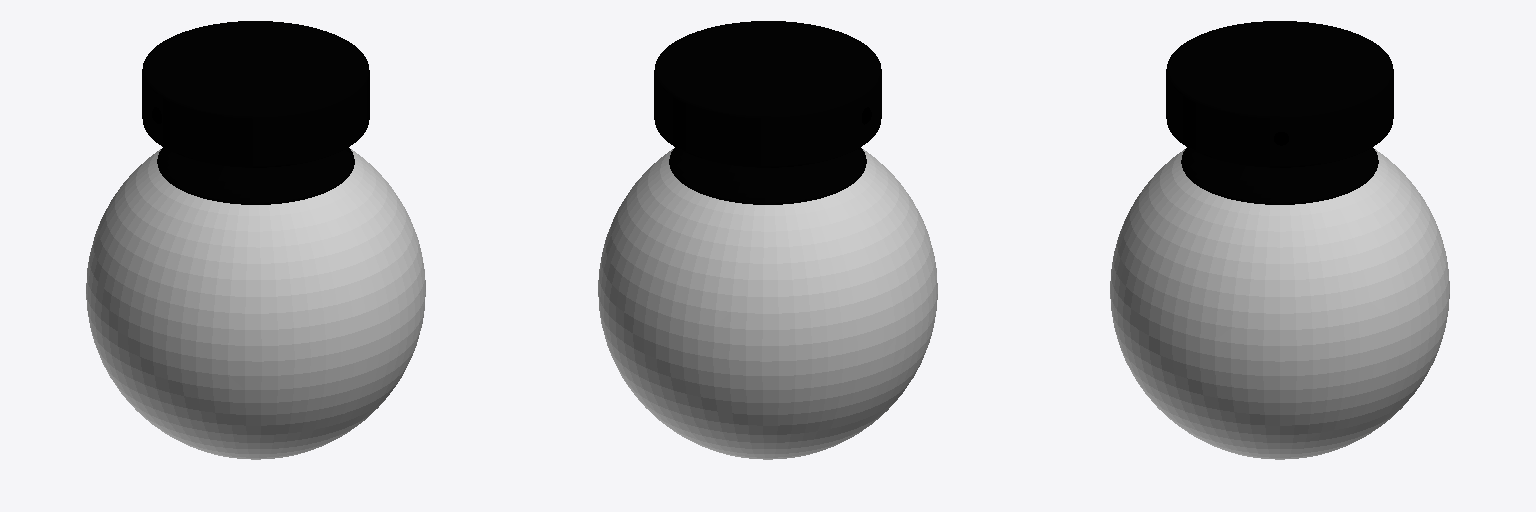
Rendered from Lamp.obj.
3 views of the same model, side by side, from view 1: azimuth 30°, elevation 25°; view 2: azimuth 150°, elevation 25°; view 3: azimuth 270°, elevation 25° (orthographic).
Visible parts, largest first — view 1: SL717.401.01; view 2: SL717.401.01; view 3: SL717.401.01.
Boxes of the visible parts, <box> form: SL717.401.01: <box>86,21,425,459</box>; SL717.401.01: <box>598,21,937,459</box>; SL717.401.01: <box>1110,21,1449,459</box>.
Size of the model in its own units: 0.179 by 0.2183 by 0.179.